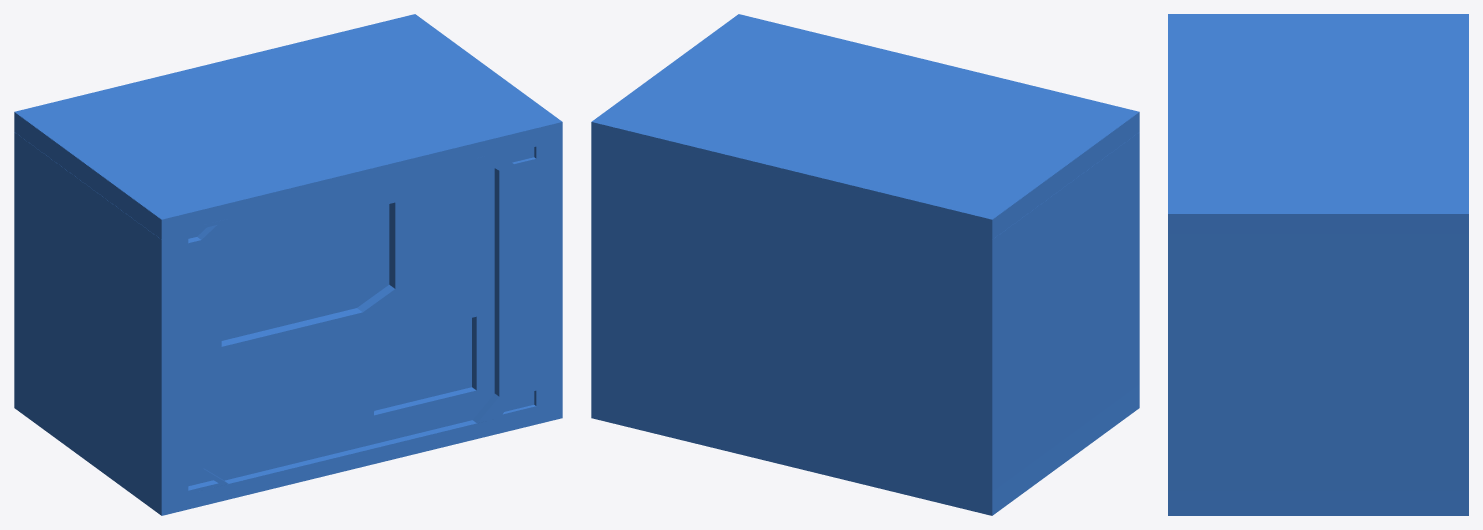
Rendered from ParedesMovedizasss.fbx.
3 views of the same model, side by side, from view 1: azimuth 30°, elevation 25°; view 2: azimuth 150°, elevation 25°; view 3: azimuth 270°, elevation 25° (orthographic). The views are drawn at different scales.
Parts seen in each view (by area): view 1: Cube, Cube.001; view 2: Cube, Cube.001; view 3: Cube, Cube.001.
Boxes of the visible parts, x1,y1,x2,y2 form: Cube: [14, 14, 562, 514]; Cube.001: [14, 112, 562, 515]; Cube: [591, 14, 1139, 514]; Cube.001: [591, 112, 1139, 515]; Cube: [1168, 14, 1468, 491]; Cube.001: [1168, 213, 1468, 515].
Size of the model in its own units: 284 by 200 by 181.
